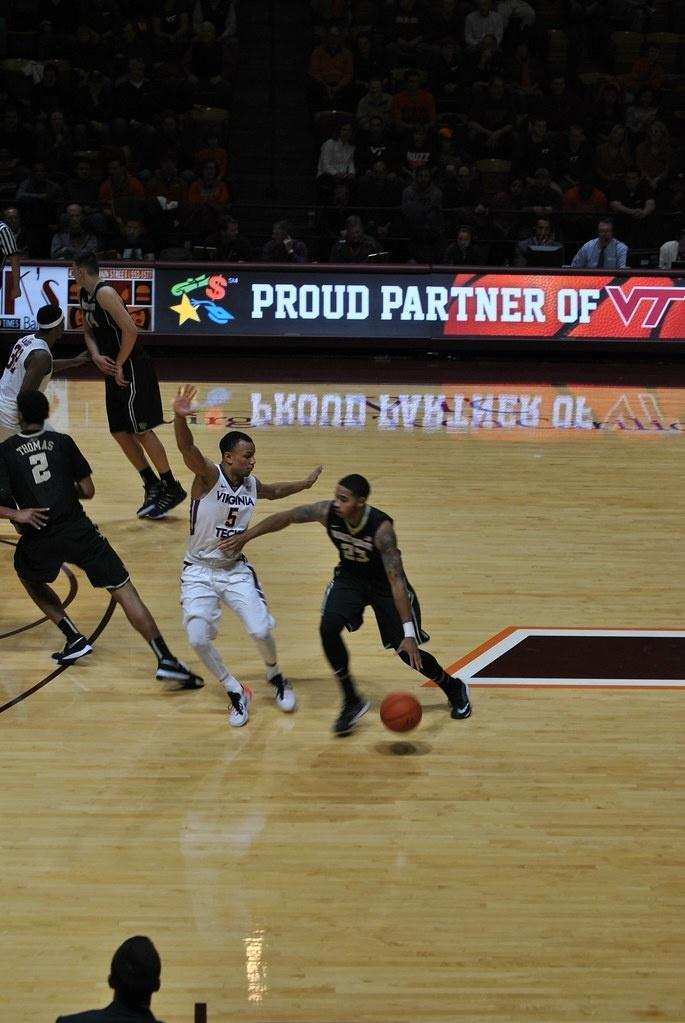basketball-player: (0, 374, 216, 737), (218, 462, 486, 737), (171, 381, 323, 727), (56, 250, 206, 515), (0, 282, 78, 446)
